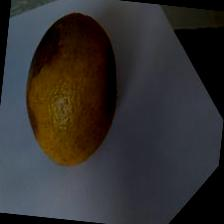Orange Rotten: (10, 0, 134, 180)
